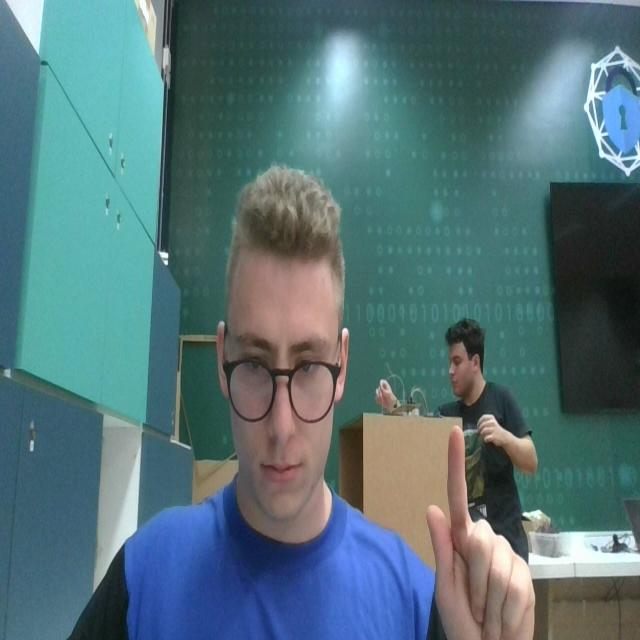G: (427, 419, 538, 640)
